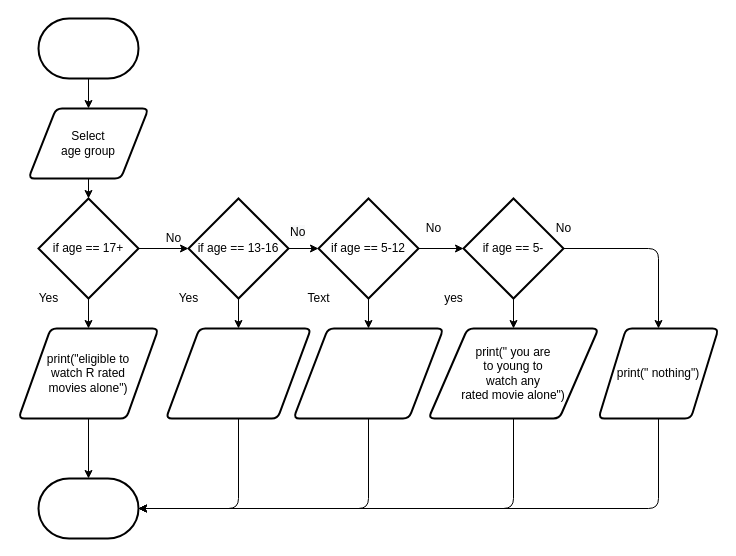
Some shapes in this 736 by 556 pixel diagram are drawn without their labels. Here are the shapes that lost their labels. From the top down, the box of each, then its label:
(37, 17, 139, 79): Start
(164, 327, 312, 419): print("eligible to watch PG-13 rated movies alone ")
(292, 327, 444, 419): print(" eligible to watch G and PG rated movies alone")
(37, 477, 139, 539): Stop
